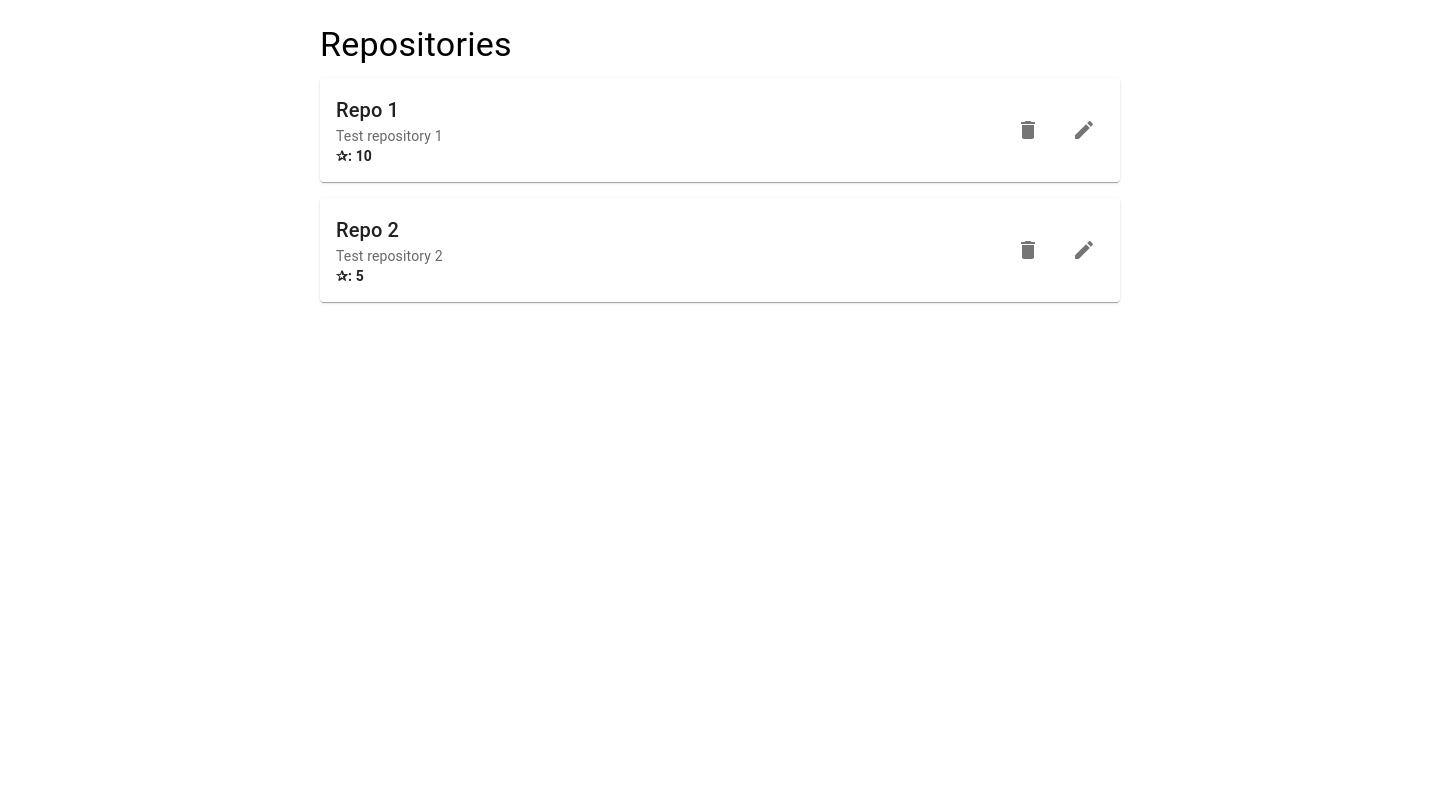
Test case: RepositoryList › Открывает модальное окно редактирования при нажатии кнопки редактирования
What coordinates should you click on to do the following:
click the button named "create" in the row of "Test repository 1"
I would click on:
 (1084, 130)
Its box is [1064, 110, 1104, 150].
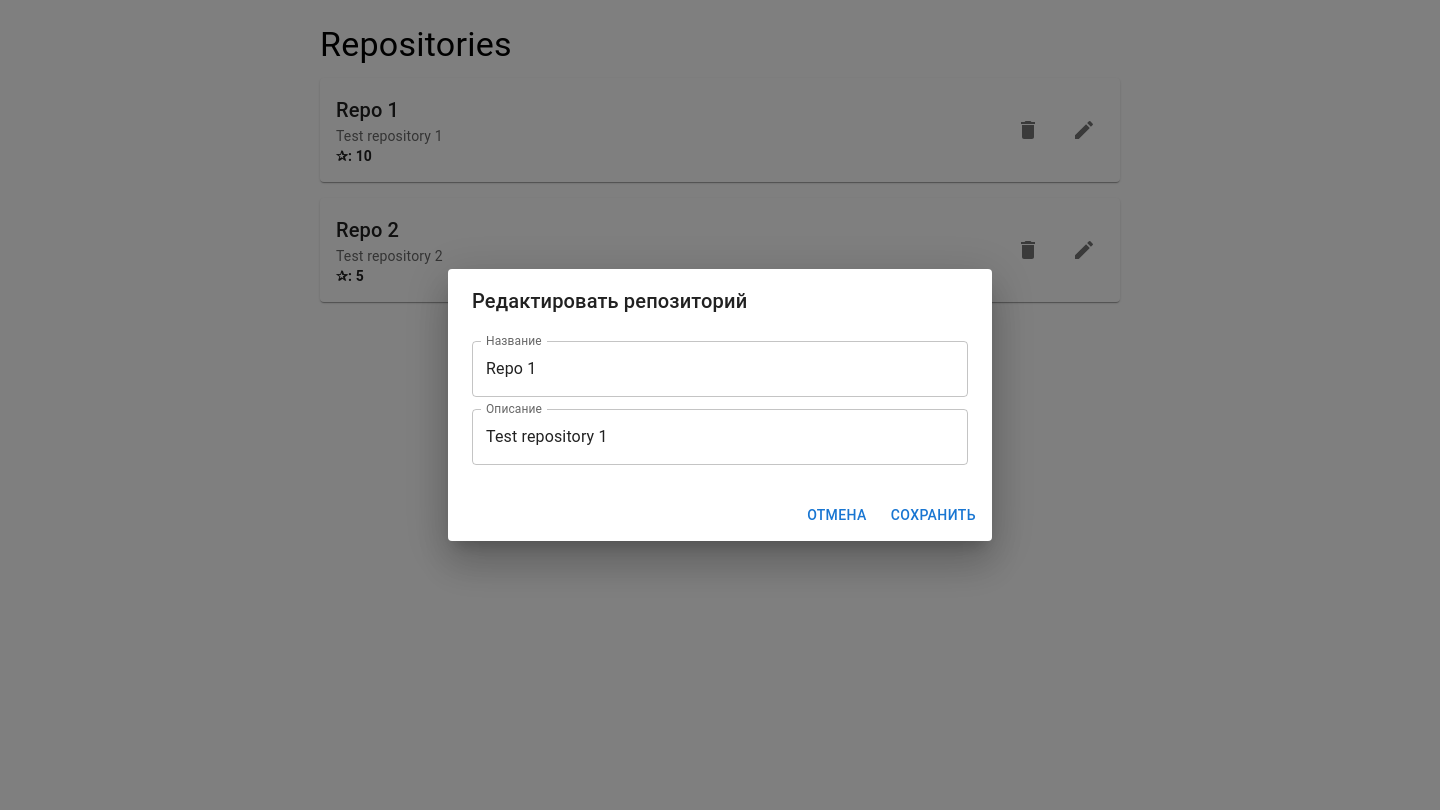
Now the button "Сохранить" is shown, box [883, 497, 984, 533]
